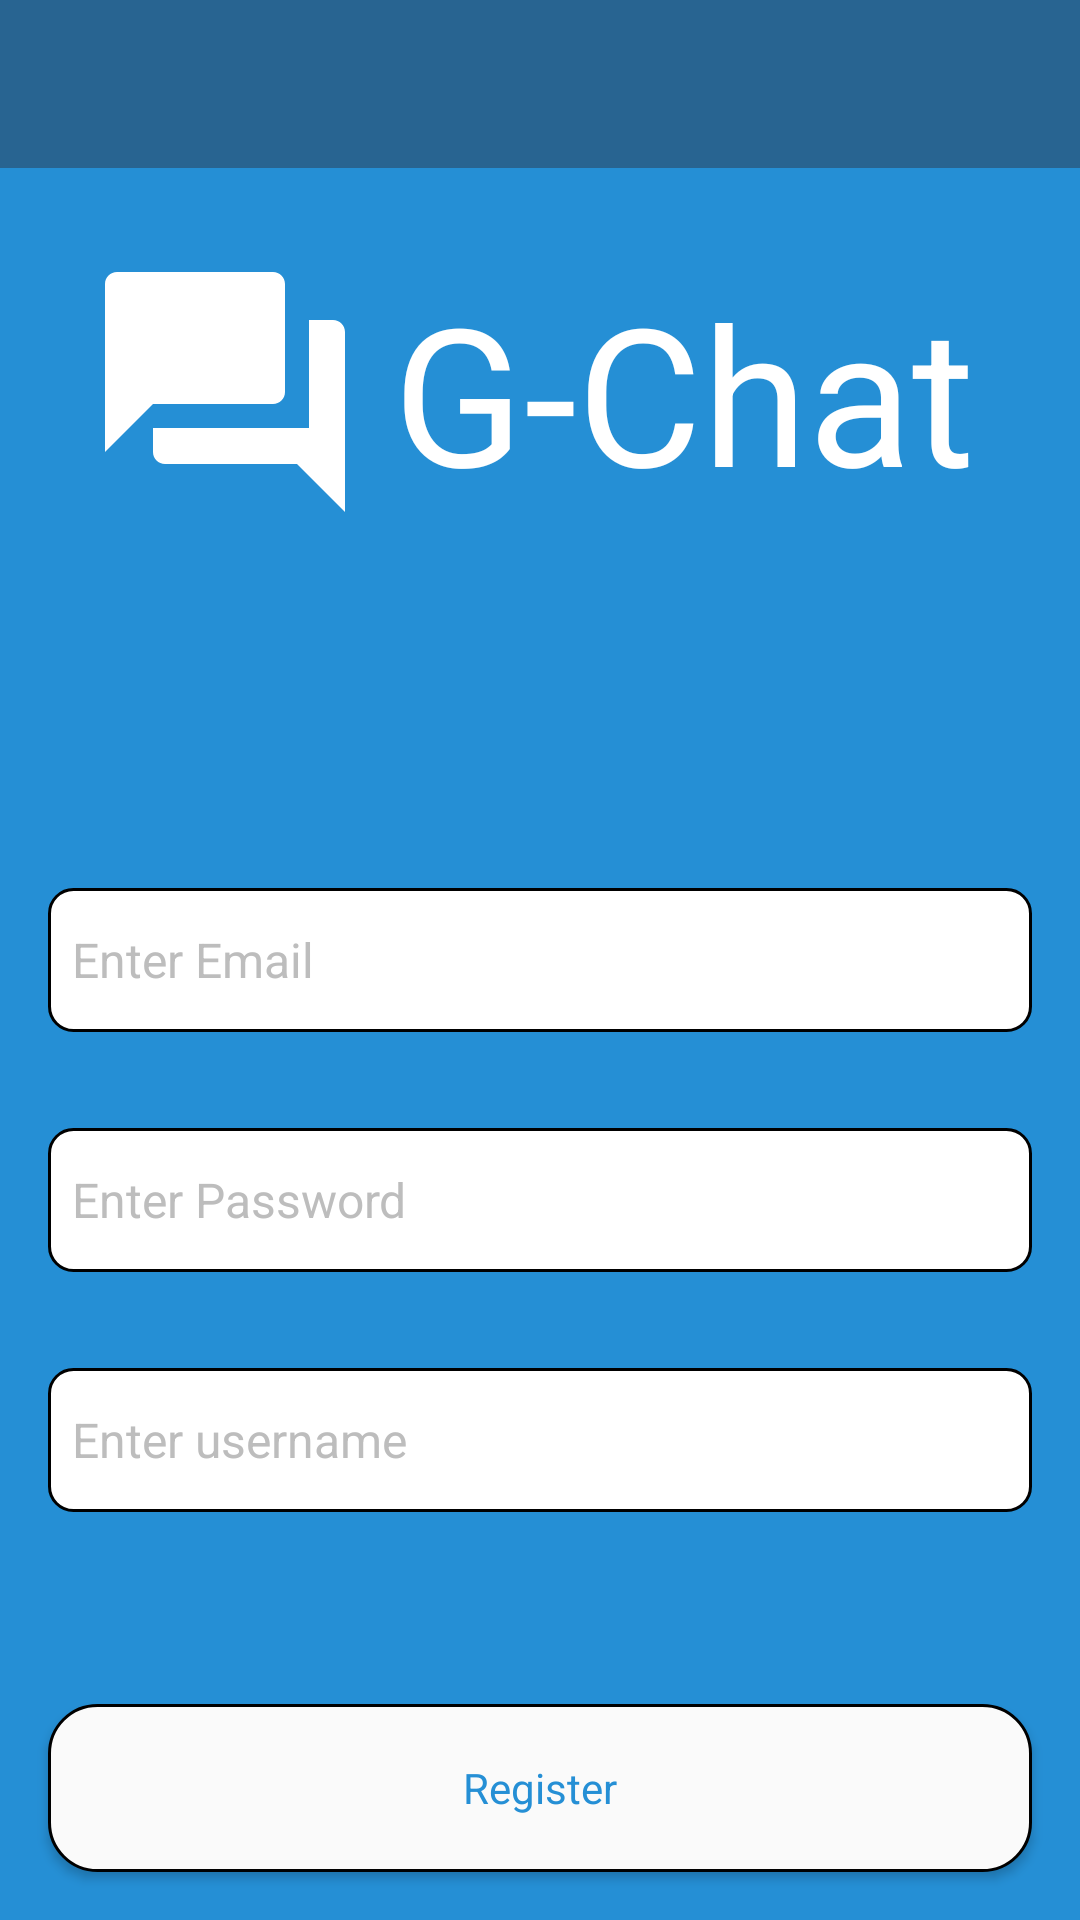

Named icons in this screenshot (1080px×1920px) and their centers, (x,y):
question answer: (225,392)
